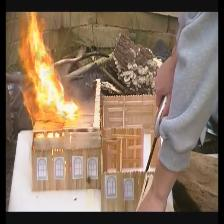fire: (22, 9, 75, 121)
